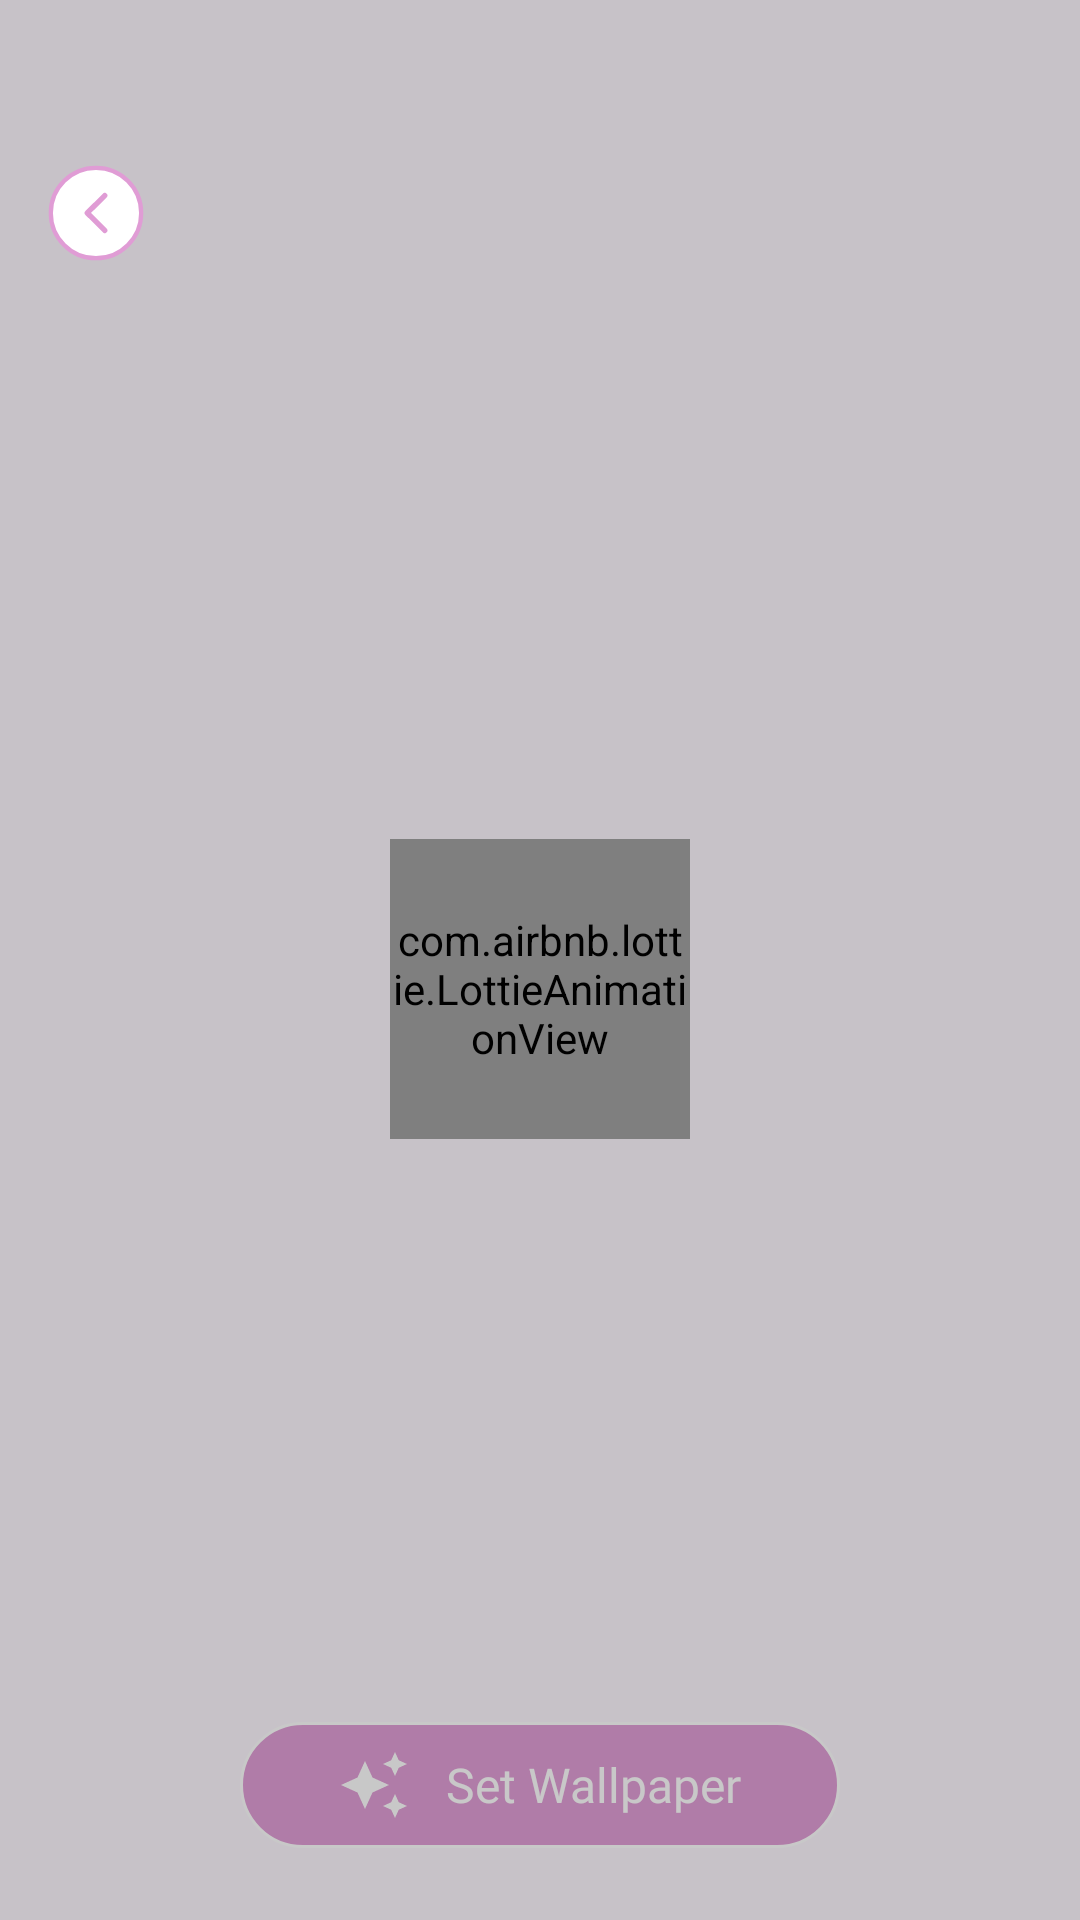

Icons on this 1080x1920 Android screen, each with the point to tap as (x,y):
imv back: (96,213)
